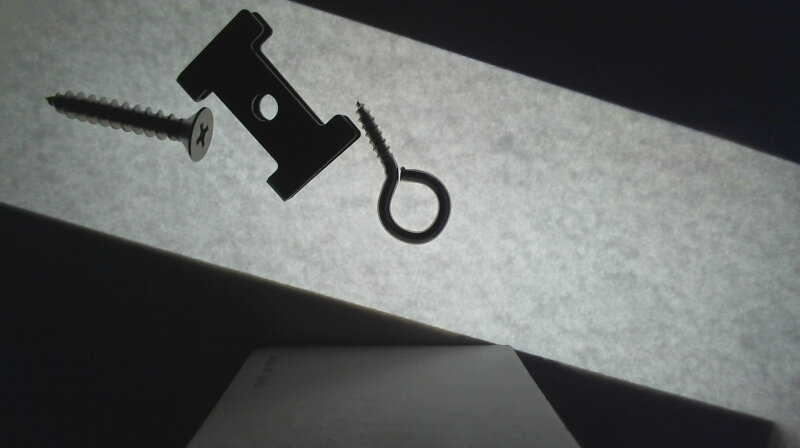O001: (354, 98, 453, 247)
O002: (173, 7, 362, 203)
S001: (43, 88, 218, 166)
